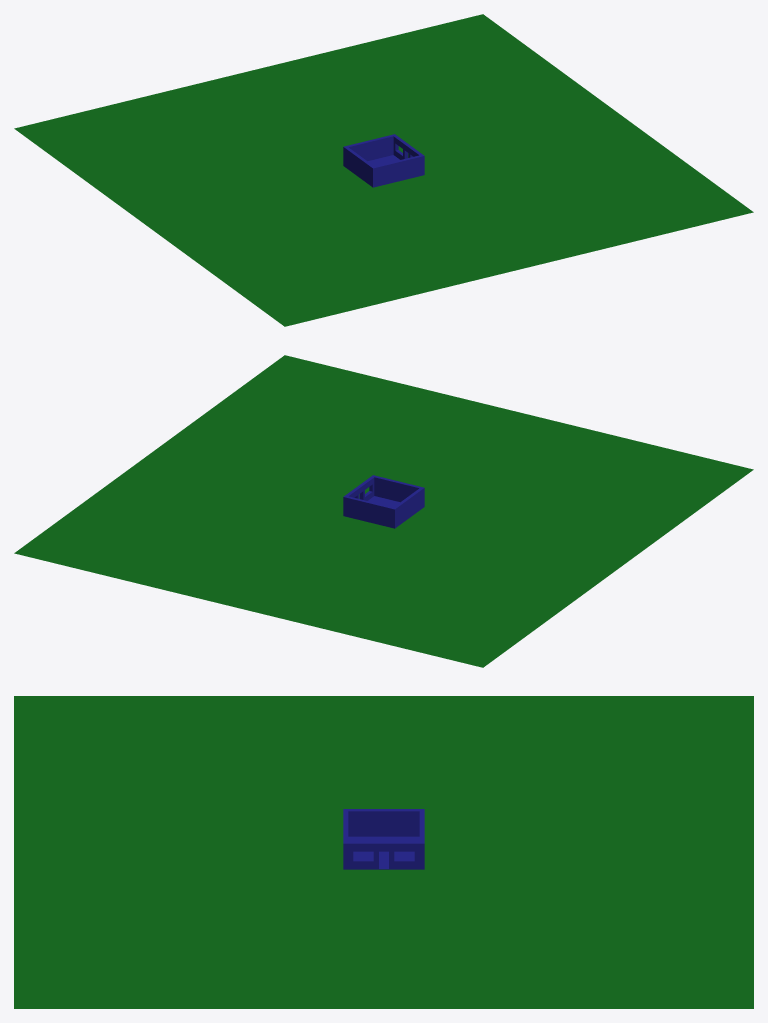
Rendered from harta1.glb.
The picture shows the model from 3 angles, top to bottom: view 1: azimuth 30°, elevation 25°; view 2: azimuth 150°, elevation 25°; view 3: azimuth 270°, elevation 25°; orthographic projection. The views are drawn at different scales.
Parts seen in each view (by area): view 1: Plane, Cube; view 2: Plane, Cube; view 3: Plane, Cube.
Boxes of the visible parts, x1,y1,x2,y2 form: Plane: (14,14,753,326); Cube: (343,134,424,187); Plane: (14,355,753,667); Cube: (343,475,424,528); Plane: (14,696,753,1008); Cube: (343,809,424,869).
Bounding box in the file's own units: 20 × 0.7812 × 20.
